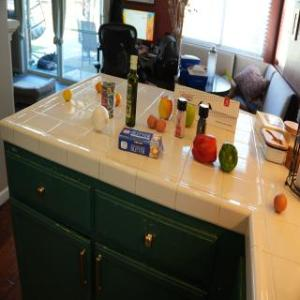bell_pepper: (190, 132, 218, 164), (219, 142, 239, 172)
egg: (274, 191, 288, 213), (155, 120, 167, 132), (146, 114, 154, 128)
onion: (91, 103, 109, 131)
